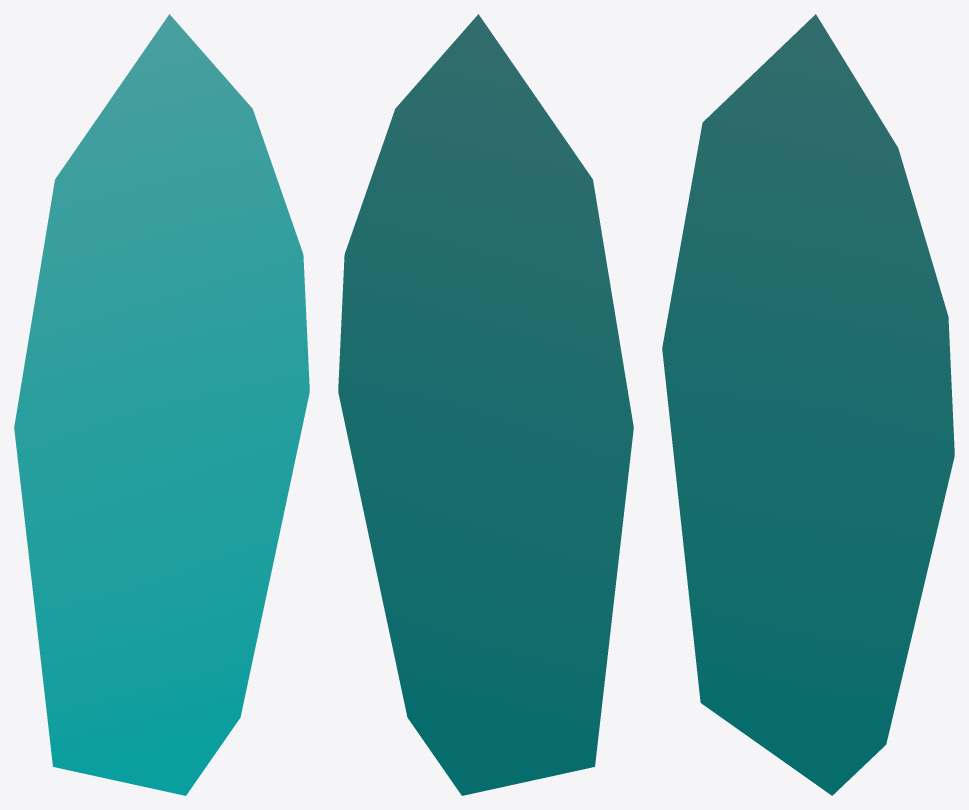
Rendered from Giant_Reed_sjllX_Mid_sjllX_VarE_LOD2.fbx.
The picture shows the model from 3 angles, left to right: view 1: azimuth 30°, elevation 25°; view 2: azimuth 150°, elevation 25°; view 3: azimuth 330°, elevation 25°; orthographic projection.
Visible parts, largest first — view 1: _7288_VarE_LOD3; view 2: _7288_VarE_LOD3; view 3: _7288_VarE_LOD3.
Boxes of the visible parts, box(x1,y1,x2,y2) form: _7288_VarE_LOD3: box(14, 14, 309, 795); _7288_VarE_LOD3: box(338, 14, 633, 795); _7288_VarE_LOD3: box(662, 14, 954, 795).
Size of the model in its own units: 93.4 by 237 by 0.
